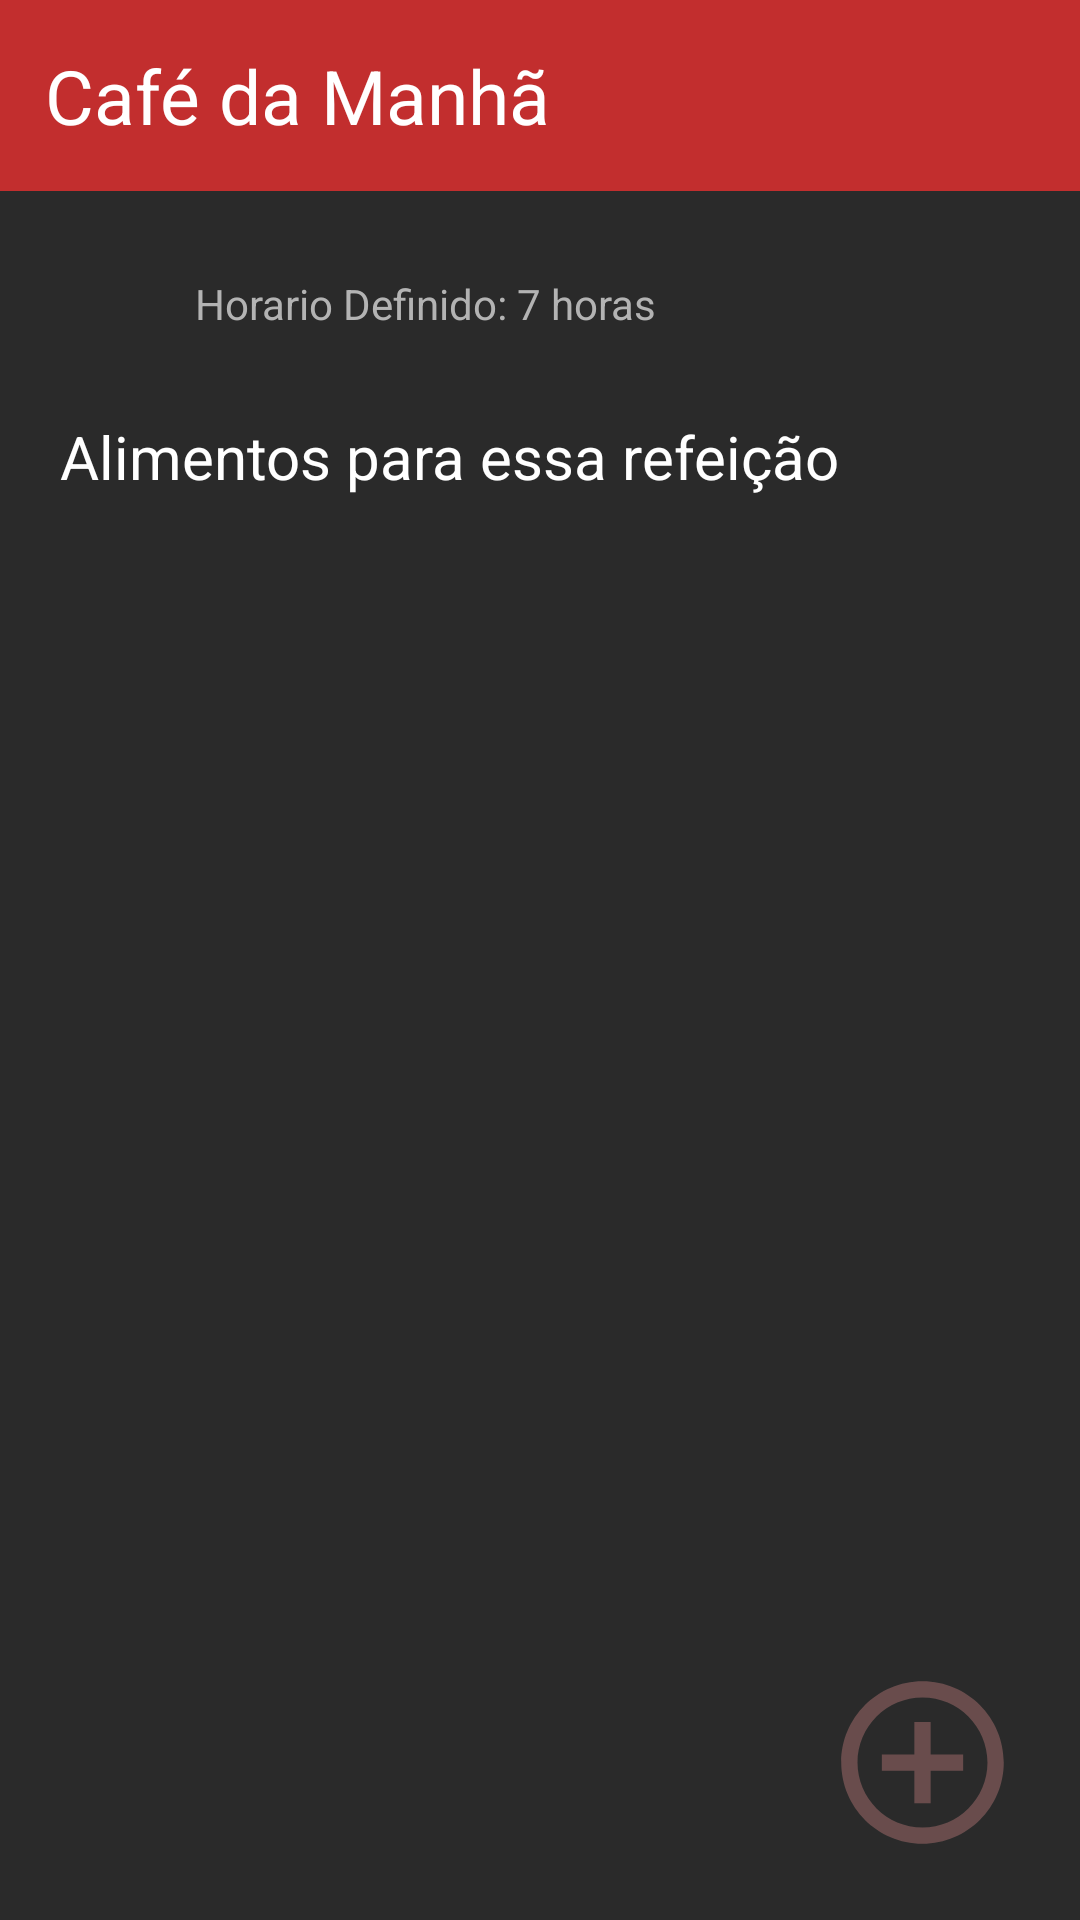

Where icons sit on this 1080px×1920px app screen, as [x1,y1,x2,y2]:
add circle: [841,1681,1004,1844]
